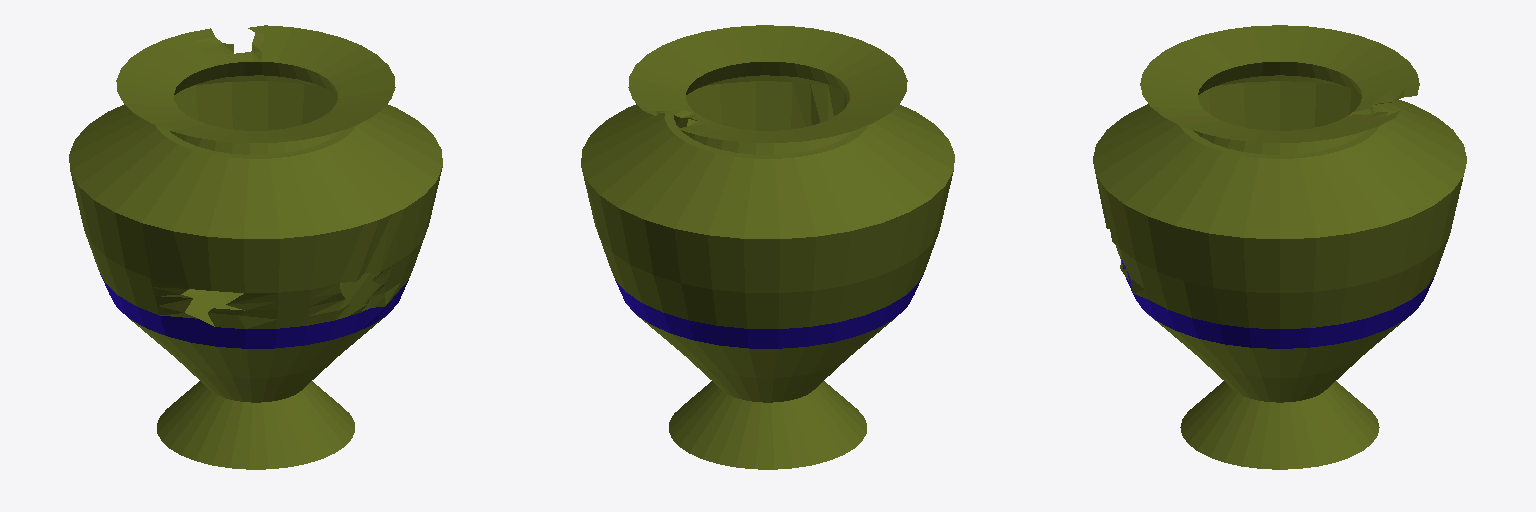
File: vasecassé.obj
3 renders of one model, left to right at view 1: azimuth 30°, elevation 25°; view 2: azimuth 150°, elevation 25°; view 3: azimuth 270°, elevation 25°, orthographic.
Parts seen in each view (by area): view 1: Cylinder; view 2: Cylinder; view 3: Cylinder.
Part boxes in pixels (x1,y1,x2,y2): Cylinder: (69,25,442,469); Cylinder: (581,25,954,469); Cylinder: (1093,25,1466,469).
Size of the model in its own units: 3.76 by 3.8 by 3.76.